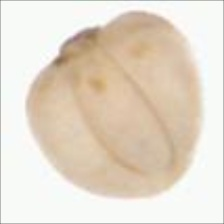L5: (69, 44, 176, 176), (141, 147, 198, 199), (49, 23, 110, 68)
L6: (23, 9, 204, 201)
